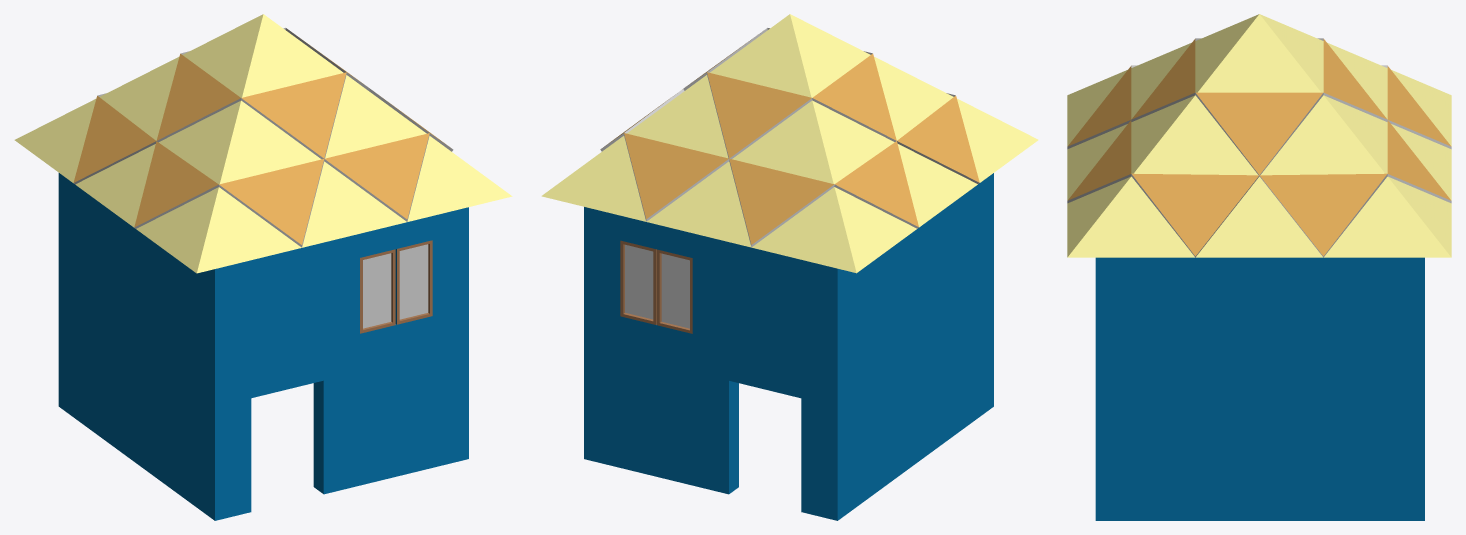
Rendered from 安全屋.fbx.
The picture shows the model from 3 angles, left to right: view 1: azimuth 30°, elevation 25°; view 2: azimuth 150°, elevation 25°; view 3: azimuth 270°, elevation 25°; orthographic projection. The views are drawn at different scales.
Visible parts, largest first — view 1: 房体; view 2: 房体; view 3: 房体.
Boxes of the visible parts, left/top/right/bottom form: 房体: left=14, top=14, right=512, bottom=520; 房体: left=541, top=14, right=1038, bottom=520; 房体: left=1067, top=14, right=1451, bottom=520.
Bounding box in the file's own units: 373 × 473 × 377.
